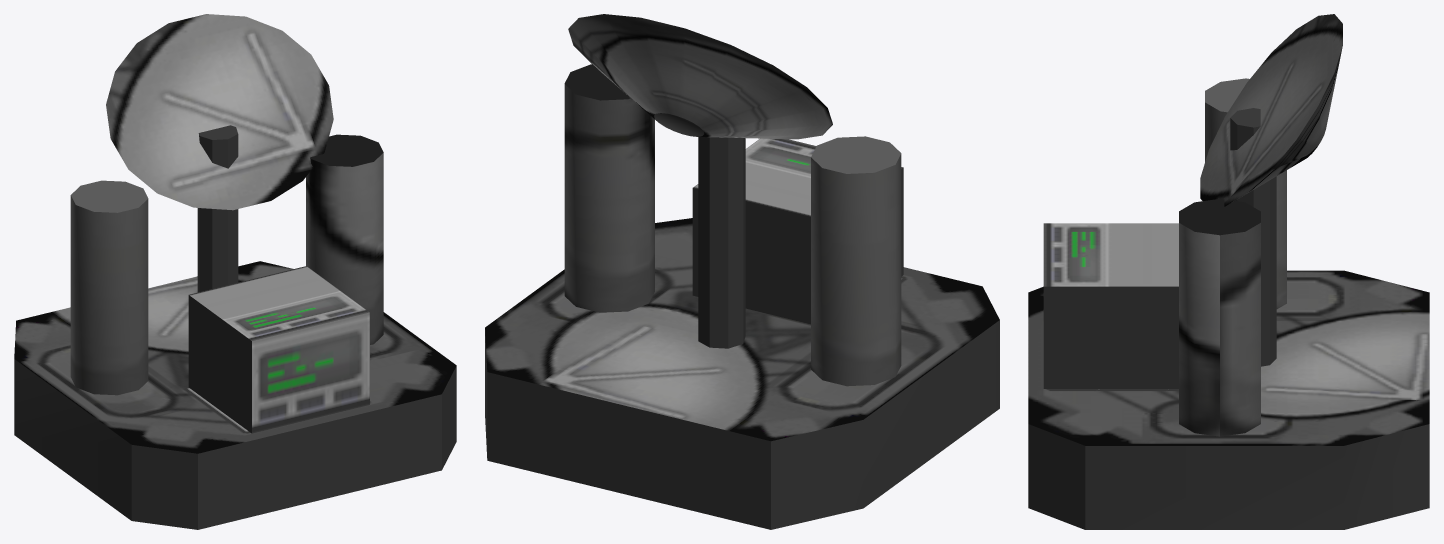
File: Building_LongRangeMineralScanner.obj
3 renders of one model, left to right at view 1: azimuth 30°, elevation 25°; view 2: azimuth 150°, elevation 25°; view 3: azimuth 270°, elevation 25°, orthographic. The views are drawn at different scales.
Visible parts, largest first — view 1: Body; view 2: Body; view 3: Body.
Part boxes in pixels (x1,y1,x2,y2): Body: [14, 14, 456, 529]; Body: [485, 14, 999, 529]; Body: [1028, 14, 1429, 529].
Size of the model in its own units: 1.25 by 1.38 by 1.21.
1 material, 1 textured.
